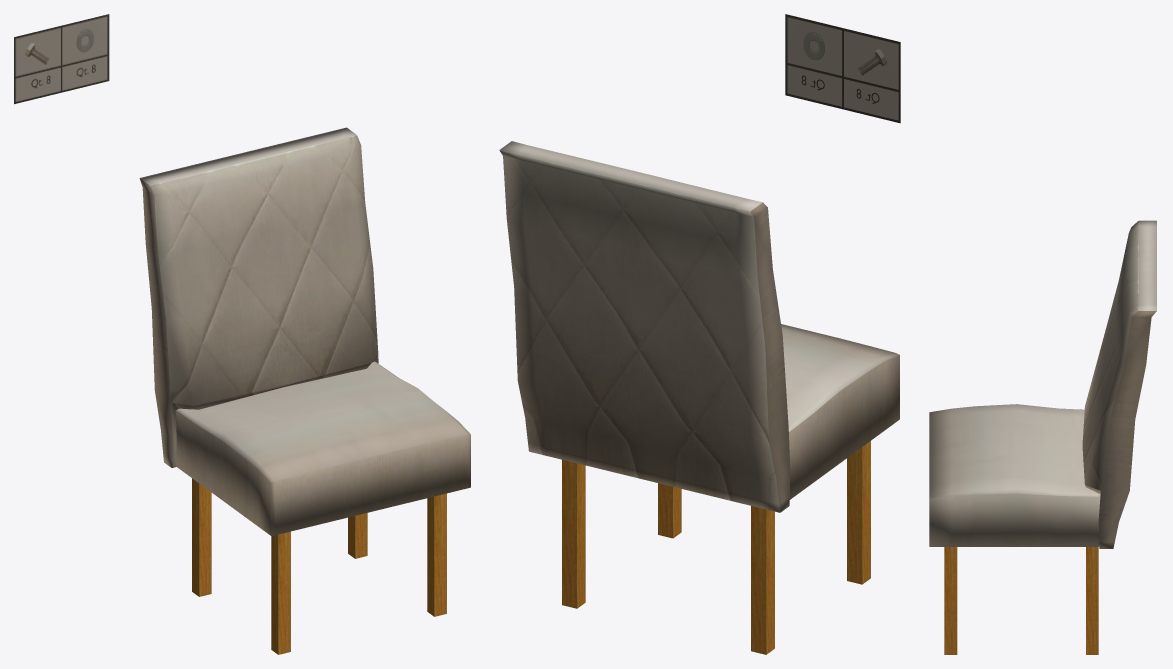
File: painel.glb
The picture shows the model from 3 angles, left to right: view 1: azimuth 30°, elevation 25°; view 2: azimuth 150°, elevation 25°; view 3: azimuth 270°, elevation 25°; orthographic projection. The views are drawn at different scales.
Visible parts, largest first — view 1: encosto, assento, Plane.007, pe1.001, pe1, pe1.002, pe1.005; view 2: encosto, assento, Plane.007, pe1.005, pe1.002, pe1, pe1.001; view 3: assento, encosto, pe1.001, pe1.005.
Boxes of the visible parts, bbox=[...] form: encosto: bbox=[139, 127, 378, 467]; assento: bbox=[175, 361, 470, 536]; Plane.007: bbox=[14, 14, 109, 104]; pe1.001: bbox=[427, 493, 446, 616]; pe1: bbox=[271, 531, 290, 654]; pe1.002: bbox=[192, 478, 211, 596]; pe1.005: bbox=[348, 513, 367, 558]; encosto: bbox=[499, 141, 790, 512]; assento: bbox=[781, 324, 899, 499]; Plane.007: bbox=[785, 14, 900, 123]; pe1.005: bbox=[562, 459, 585, 608]; pe1.002: bbox=[751, 506, 774, 654]; pe1: bbox=[847, 441, 870, 584]; pe1.001: bbox=[658, 483, 681, 538]; assento: bbox=[929, 404, 1100, 546]; encosto: bbox=[1082, 220, 1156, 548]; pe1.001: bbox=[944, 547, 957, 654]; pe1.005: bbox=[1086, 547, 1098, 654].
Size of the model in its own units: 3.77 by 6.14 by 2.53.
5 materials, 5 textured.
